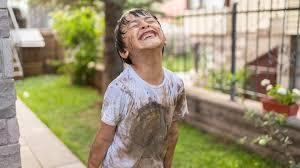earth: (130, 106, 167, 158), (176, 89, 184, 109)
